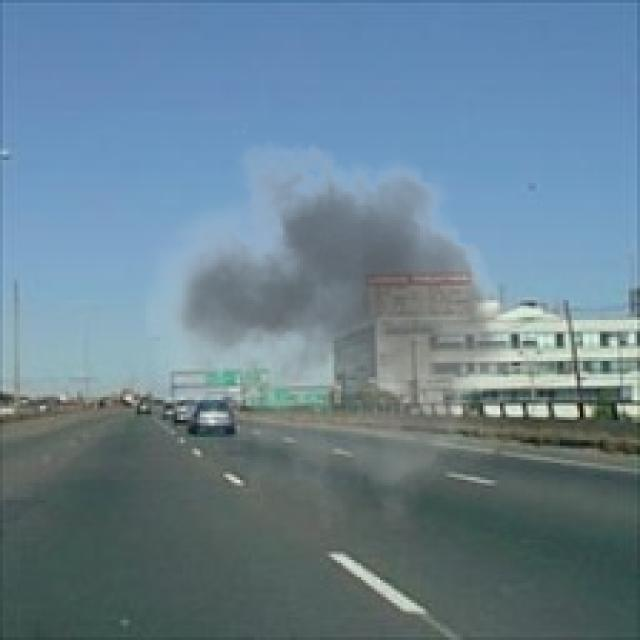smoke: (143, 123, 531, 531)
